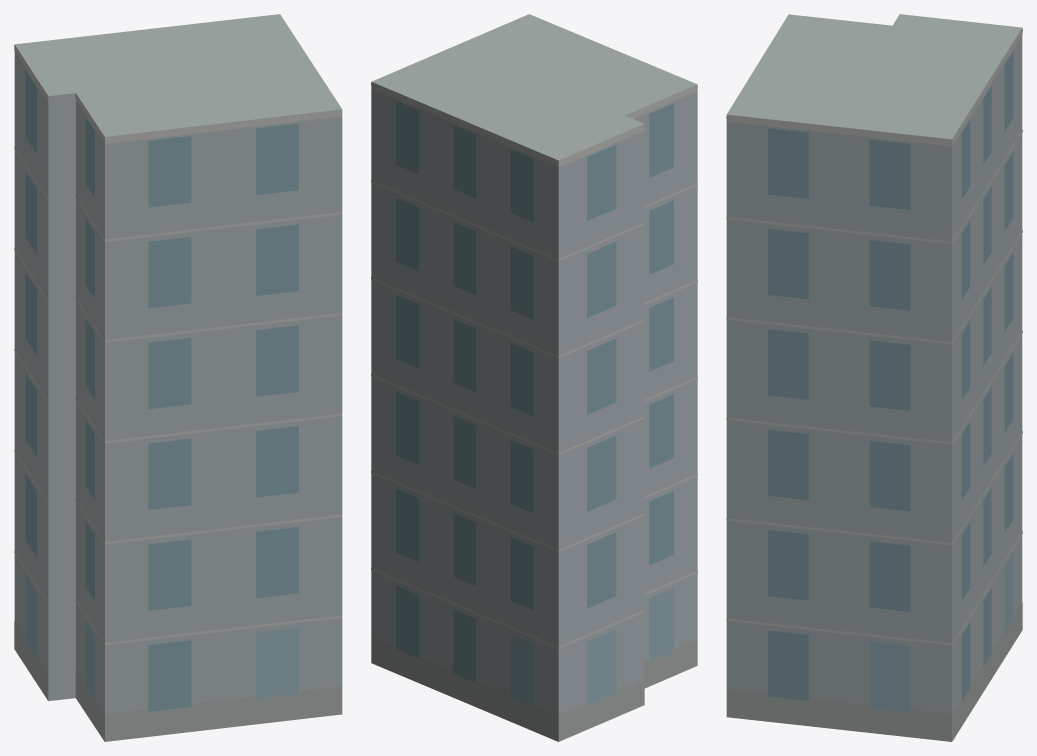
File: survey-upis-32685286.glb
The picture shows the model from 3 angles, left to right: view 1: azimuth 30°, elevation 25°; view 2: azimuth 150°, elevation 25°; view 3: azimuth 270°, elevation 25°; orthographic projection. The views are drawn at different scales.
Visible parts, largest first — view 1: survey-upis-32685286.tmp; view 2: survey-upis-32685286.tmp; view 3: survey-upis-32685286.tmp.
Part boxes in pixels (bbox=[...]): survey-upis-32685286.tmp: bbox=[14, 14, 342, 741]; survey-upis-32685286.tmp: bbox=[371, 14, 697, 741]; survey-upis-32685286.tmp: bbox=[726, 14, 1022, 741].
Size of the model in its own units: 9.26 by 20.7 by 9.24.
